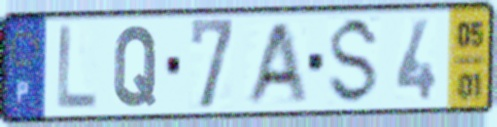4: (392, 16, 440, 104)
7: (188, 16, 237, 114)
A: (241, 18, 310, 108)
L: (54, 22, 100, 113)
Q: (111, 22, 161, 110)
S: (324, 14, 384, 109)
